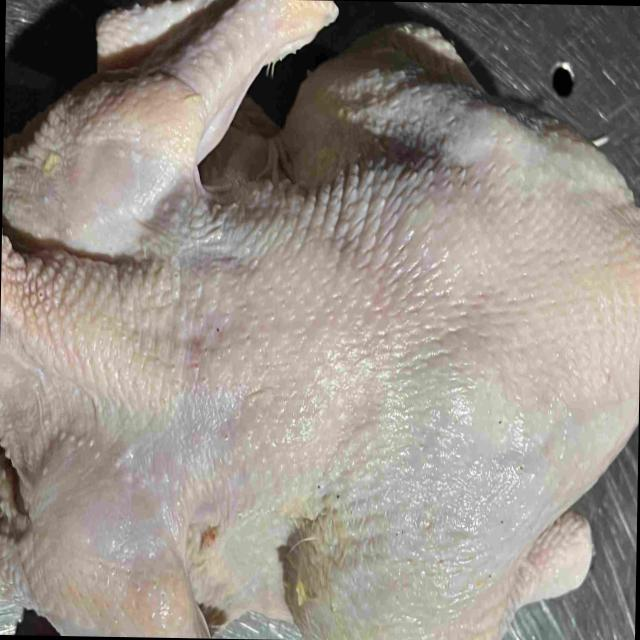back: (105, 183, 640, 498)
leg: (276, 23, 605, 196), (274, 473, 595, 640)
neck: (0, 218, 110, 476)
wing: (2, 0, 342, 260), (0, 499, 209, 638)
